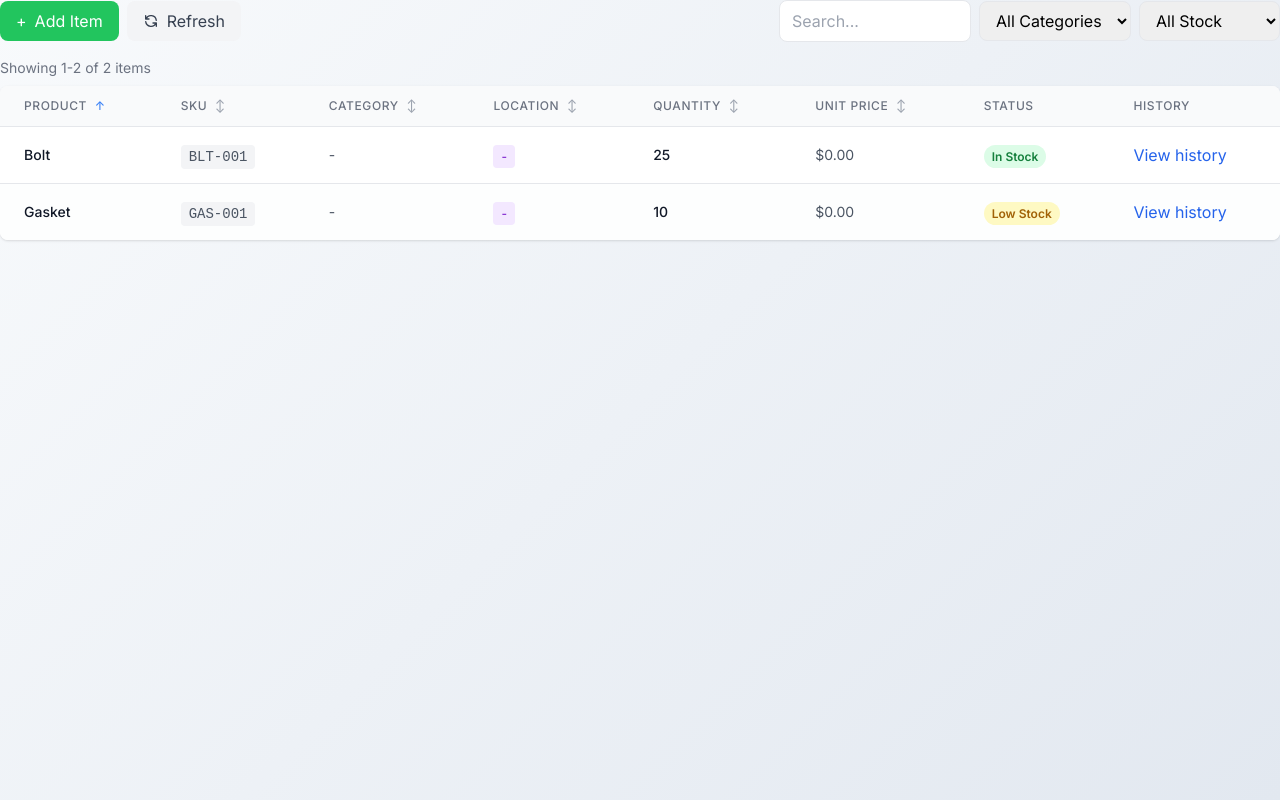
Scenario: shows an empty history clearly
Step 1. Click the button with aria-label "View history for Bolt" → (1180, 155), box [1133,143,1227,167]
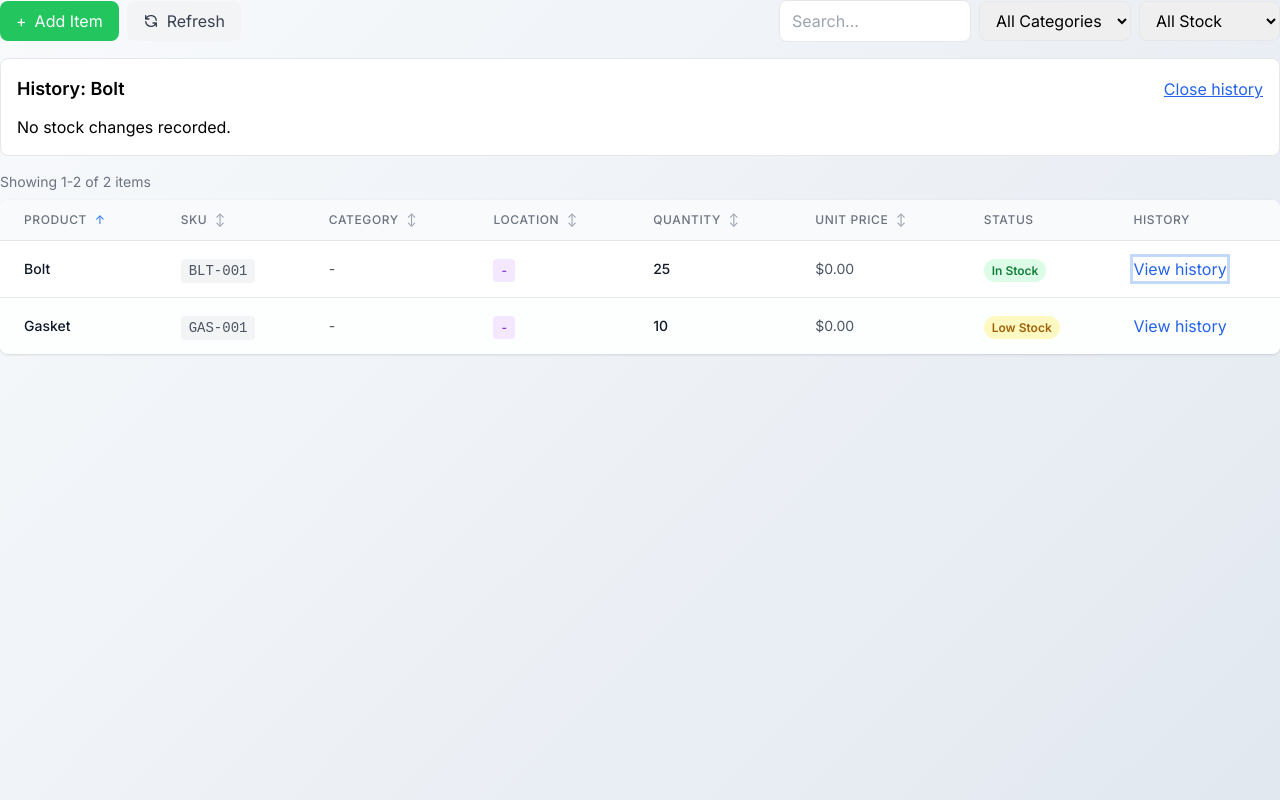
expect the text "No stock changes recorded." is shown: met, box [17,117,231,137]
